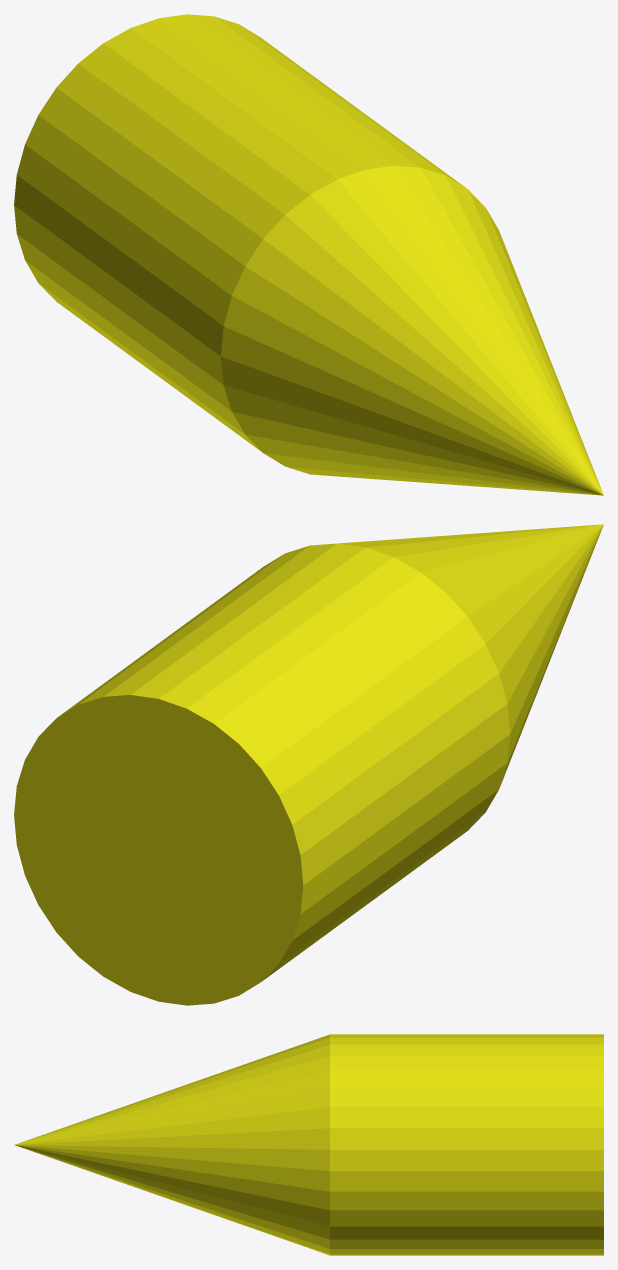
Rendered from bullet.fbx.
3 renders of one model, top to bottom at view 1: azimuth 30°, elevation 25°; view 2: azimuth 150°, elevation 25°; view 3: azimuth 270°, elevation 25°, orthographic. The views are drawn at different scales.
Visible parts, largest first — view 1: Cone; view 2: Cone; view 3: Cone.
Boxes of the visible parts, x1,y1,x2,y2 form: Cone: (14,14,603,495); Cone: (14,524,603,1005); Cone: (14,1034,603,1255).
Bounding box in the file's own units: 15.1 × 15.1 × 40.26.
